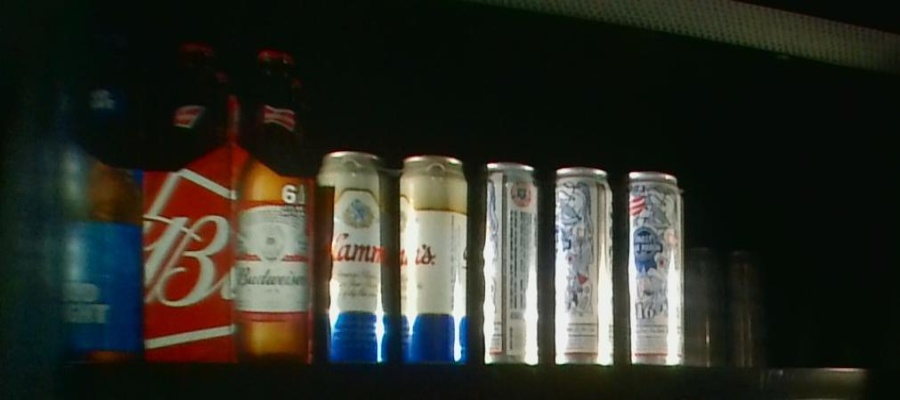bottle: (142, 37, 317, 362), (1, 34, 143, 363), (469, 160, 684, 367), (317, 148, 470, 366), (687, 245, 766, 367)
